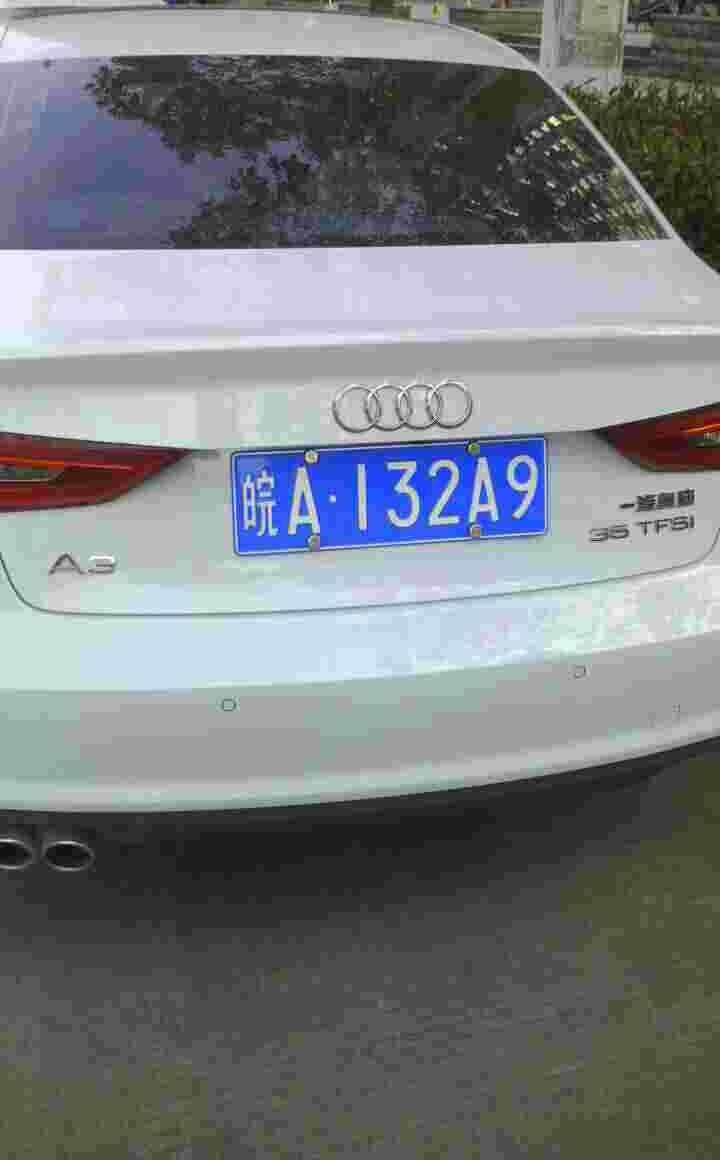license_plate: (229, 437, 552, 562)
